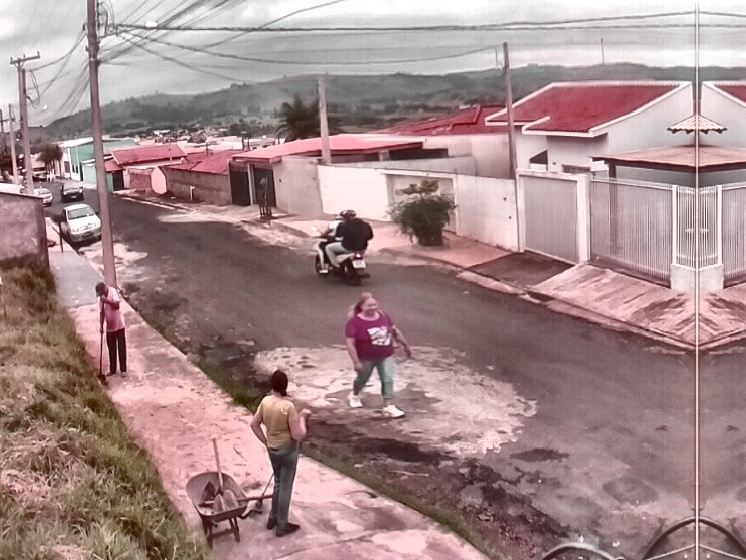person: (249, 368, 315, 538), (342, 291, 412, 418), (322, 209, 376, 276), (94, 280, 129, 378)
